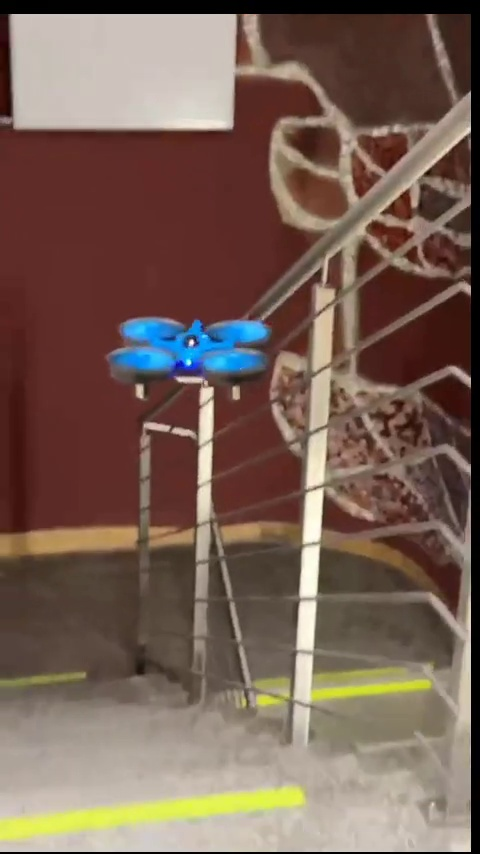drone: (105, 314, 269, 411)
